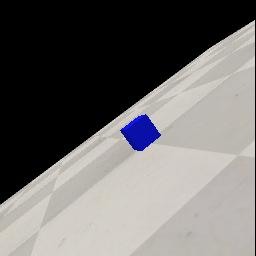box: (120, 114, 161, 151)
